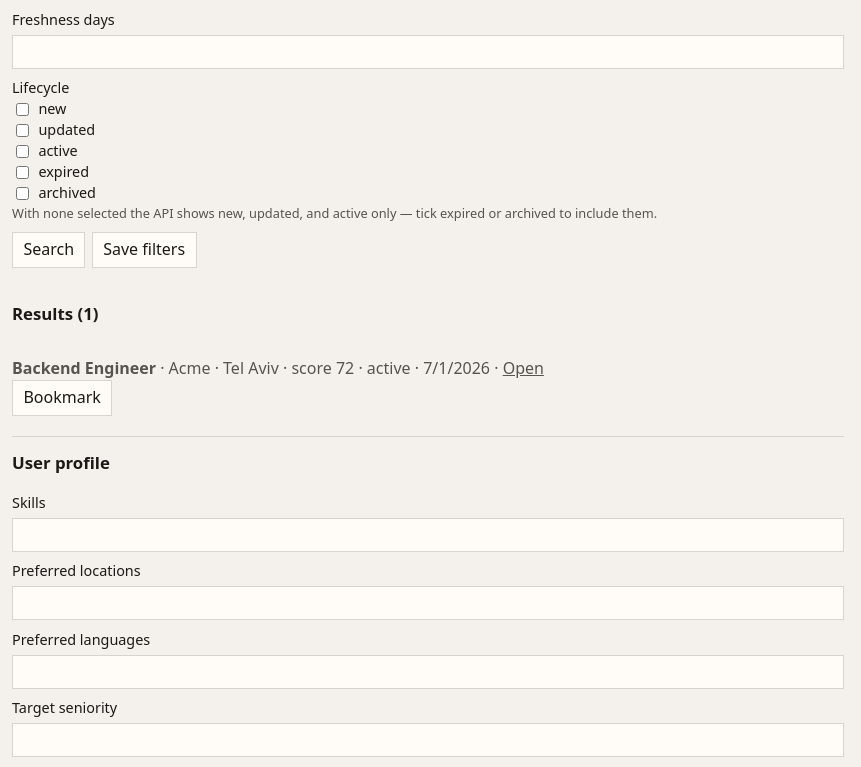
Scenario: OpportunitiesPage › bookmarks a result row through POST /tracker/bookmarks
The width and height of the screenshot is (861, 767).
(page scrolled)
Expected: the text "Backend Engineer" is shown, [12,356,156,378]
Click the button "Bookmark".
click(62, 398)  # box [12,380,112,416]
(page scrolled)
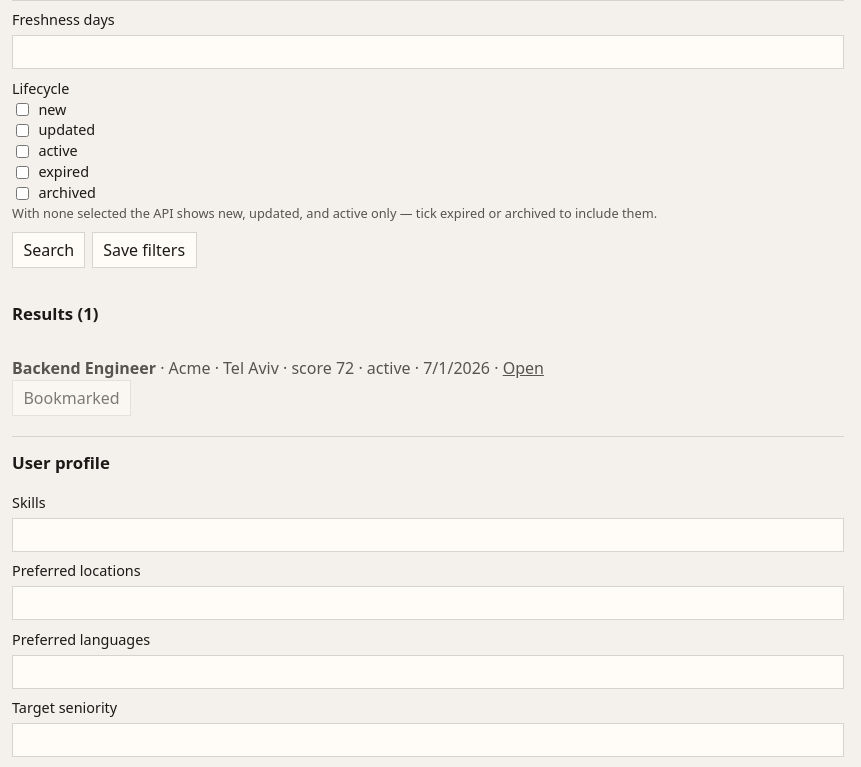
Now the button "Bookmarked" is disabled, box [12,380,131,416]
